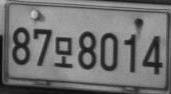0: (99, 31, 118, 72)
1: (121, 33, 140, 72)
4: (141, 35, 163, 75)
7: (32, 27, 52, 66)
8: (10, 25, 31, 65), (77, 30, 97, 69)
모: (54, 36, 73, 67)
